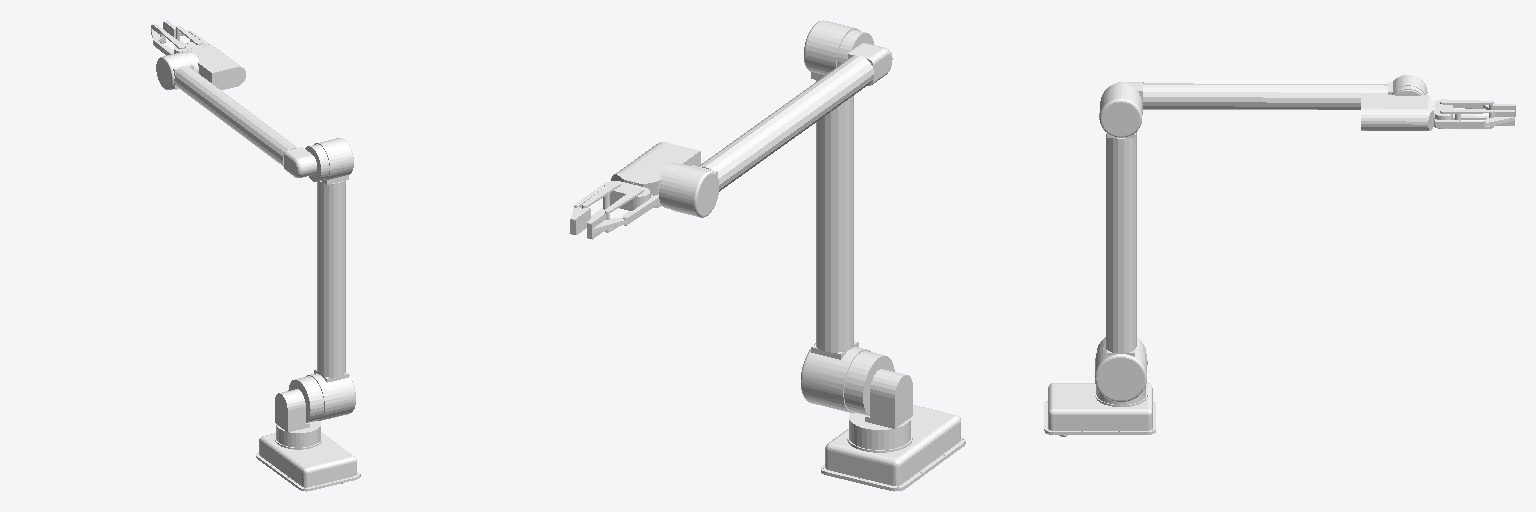
The robot description file, URDF, robot "yj10":
<?xml version="1.0" encoding="utf-8" ?>
<!-- This URDF was automatically created by SolidWorks to URDF Exporter! Originally created by
[author] ([email redacted]) 
     Commit Version: 1.6.0-4-g7f85cfe  Build Version: 1.6.7995.38578
     For more information, please see http://wiki.ros.org/sw_urdf_exporter -->
<robot name="yj10">
    <link name="world" />
    <joint name="base_joint" type="fixed">
        <parent link="world" />
        <child link="base_link" />
        <origin xyz="0.0 0.0 0.5" rpy="0.0 0.0 0.0" />
    </joint>
    <link name="base_link">
        <inertial>
            <origin xyz="0.00013467 -0.04325 0.025845" rpy="0 0 0" />
            <mass value="1.7019" />
            <inertia ixx="0.0071647" ixy="1.7821E-05" ixz="8.0419E-06" iyy="0.0034039"
                iyz="-6.1005E-05" izz="0.0097375" />
        </inertial>
        <visual>
            <origin xyz="0 0 0" rpy="0 0 0" />
            <geometry>
                <mesh filename="package://yj10_description/meshes/base_link.STL" />
            </geometry>
            <material name="">
                <color rgba="1 1 1 1" />
            </material>
        </visual>
        <collision>
            <origin xyz="0 0 0" rpy="0 0 0" />
            <geometry>
                <mesh filename="package://yj10_description/meshes/base_link.STL" />
            </geometry>
        </collision>
    </link>
    <link name="link1">
        <inertial>
            <origin xyz="0.0017435 -1.6818E-05 0.061315" rpy="0 0 0" />
            <mass value="0.87269" />
            <inertia ixx="0.0018566" ixy="3.7517E-07" ixz="-0.00012802" iyy="0.0018955"
                iyz="1.235E-06" izz="0.0010518" />
        </inertial>
        <visual>
            <origin xyz="0 0 0" rpy="0 0 0" />
            <geometry>
                <mesh filename="package://yj10_description/meshes/link1.STL" />
            </geometry>
            <material name="">
                <color rgba="1 1 1 1" />
            </material>
        </visual>
        <collision>
            <origin xyz="0 0 0" rpy="0 0 0" />
            <geometry>
                <mesh filename="package://yj10_description/meshes/link1.STL" />
            </geometry>
        </collision>
    </link>
    <joint name="joint1" type="revolute">
        <origin xyz="0 0 0.056" rpy="0 0 0" />
        <parent link="base_link" />
        <child link="link1" />
        <axis xyz="0 0 -1" />
        <limit lower="-1.5708" upper="1.5708" effort="10000" velocity="0.57" />
    </joint>
    <link name="link2">
        <inertial>
            <origin xyz="0.046603 -0.00044956 0.27133" rpy="0 0 0" />
            <mass value="3.09" />
            <inertia ixx="0.036472" ixy="-1.0215E-06" ixz="-1.8792E-05" iyy="0.036366"
                iyz="1.8127E-07" izz="0.0025346" />
        </inertial>
        <visual>
            <origin xyz="0 0 0" rpy="0 0 0" />
            <geometry>
                <mesh filename="package://yj10_description/meshes/link2.STL" />
            </geometry>
            <material name="">
                <color rgba="1 1 1 1" />
            </material>
        </visual>
        <collision>
            <origin xyz="0 0 0" rpy="0 0 0" />
            <geometry>
                <mesh filename="package://yj10_description/meshes/link2.STL" />
            </geometry>
        </collision>
    </link>
    <joint name="joint2" type="revolute">
        <origin xyz="0.038998 -0.00037619 0.093" rpy="0 0 0" />
        <parent link="link1" />
        <child link="link2" />
        <axis xyz="-0.99995 0.009646 0" />
        <limit lower="-1.5708" upper="1.5708" effort="10000" velocity="0.57" />
    </joint>
    <link name="link3">
        <inertial>
            <origin xyz="-0.028145 0.32599 -6.7599E-09" rpy="0 0 0" />
            <mass value="1.8688" />
            <inertia ixx="0.027421" ixy="-0.00023639" ixz="-4.1986E-10" iyy="0.00089832"
                iyz="2.8529E-11" izz="0.027448" />
        </inertial>
        <visual>
            <origin xyz="0 0 0" rpy="0 0 0" />
            <geometry>
                <mesh filename="package://yj10_description/meshes/link3.STL" />
            </geometry>
            <material name="">
                <color rgba="1 1 1 1" />
            </material>
        </visual>
        <collision>
            <origin xyz="0 0 0" rpy="0 0 0" />
            <geometry>
                <mesh filename="package://yj10_description/meshes/link3.STL" />
            </geometry>
        </collision>
    </link>
    <joint name="joint3" type="revolute">
        <origin xyz="0.0049998 -4.823E-05 0.6" rpy="0 0 0" />
        <parent link="link2" />
        <child link="link3" />
        <axis xyz="0.99995 -0.009646 0" />
        <limit lower="-1.5708" upper="1.5708" effort="10000" velocity="0.57" />
    </joint>
    <link name="link4">
        <inertial>
            <origin xyz="0.042982 -0.024425 2.0748E-09" rpy="0 0 0" />
            <mass value="0.63938" />
            <inertia ixx="0.0010731" ixy="5.6489E-07" ixz="3.7312E-11" iyy="0.00054075"
                iyz="-6.3284E-12" izz="0.0013552" />
        </inertial>
        <visual>
            <origin xyz="0 0 0" rpy="0 0 0" />
            <geometry>
                <mesh filename="package://yj10_description/meshes/link4.STL" />
            </geometry>
            <material name="">
                <color rgba="1 1 1 1" />
            </material>
        </visual>
        <collision>
            <origin xyz="0 0 0" rpy="0 0 0" />
            <geometry>
                <mesh filename="package://yj10_description/meshes/link4.STL" />
            </geometry>
        </collision>
    </link>
    <joint name="joint4" type="revolute">
        <origin xyz="0.014287 0.59989 0" rpy="0 0 0" />
        <parent link="link3" />
        <child link="link4" />
        <axis xyz="-0.99995 0.009646 0" />
        <limit lower="-1.5708" upper="1.5708" effort="10000" velocity="0.57" />
    </joint>
    <link name="link5">
        <inertial>
            <origin xyz="0.0014574 0.058849 0.00040131" rpy="0 0 0" />
            <mass value="0.22539" />
            <inertia ixx="9.0373E-05" ixy="-8.613E-07" ixz="4.3725E-09" iyy="7.106E-05"
                iyz="4.5328E-07" izz="0.00014085" />
        </inertial>
        <visual>
            <origin xyz="0 0 0" rpy="0 0 0" />
            <geometry>
                <mesh filename="package://yj10_description/meshes/link5.STL" />
            </geometry>
            <material name="">
                <color rgba="1 1 1 1" />
            </material>
        </visual>
        <collision>
            <origin xyz="0 0 0" rpy="0 0 0" />
            <geometry>
                <mesh filename="package://yj10_description/meshes/link5.STL" />
            </geometry>
        </collision>
    </link>
    <joint name="joint5" type="revolute">
        <origin xyz="0.041038 0.055577 0" rpy="0 0 0" />
        <parent link="link4" />
        <child link="link5" />
        <axis xyz="-0.009646 -0.99995 0" />
        <limit lower="-1.5708" upper="1.5708" effort="10000" velocity="0.57" />
    </joint>

    <!-- For Gazebo -->

    <transmission name="trans_joint1">
        <type>transmission_interface/SimpleTransmission</type>
        <joint name="joint1">
            <hardwareInterface>hardware_interface/PositionJointInterface</hardwareInterface>
        </joint>
        <actuator name="joint1_motor">
            <hardwareInterface>hardware_interface/PositionJointInterface</hardwareInterface>
            <mechanicalReduction>1</mechanicalReduction>
        </actuator>
    </transmission>
    <transmission name="trans_joint2">
        <type>transmission_interface/SimpleTransmission</type>
        <joint name="joint2">
            <hardwareInterface>hardware_interface/PositionJointInterface</hardwareInterface>
        </joint>
        <actuator name="joint2_motor">
            <hardwareInterface>hardware_interface/PositionJointInterface</hardwareInterface>
            <mechanicalReduction>1</mechanicalReduction>
        </actuator>
    </transmission>
    <transmission name="trans_joint3">
        <type>transmission_interface/SimpleTransmission</type>
        <joint name="joint3">
            <hardwareInterface>hardware_interface/PositionJointInterface</hardwareInterface>
        </joint>
        <actuator name="joint3_motor">
            <hardwareInterface>hardware_interface/PositionJointInterface</hardwareInterface>
            <mechanicalReduction>1</mechanicalReduction>
        </actuator>
    </transmission>
    <transmission name="trans_joint4">
        <type>transmission_interface/SimpleTransmission</type>
        <joint name="joint4">
            <hardwareInterface>hardware_interface/PositionJointInterface</hardwareInterface>
        </joint>
        <actuator name="joint4_motor">
            <hardwareInterface>hardware_interface/PositionJointInterface</hardwareInterface>
            <mechanicalReduction>1</mechanicalReduction>
        </actuator>
    </transmission>
    <transmission name="trans_joint5">
        <type>transmission_interface/SimpleTransmission</type>
        <joint name="joint5">
            <hardwareInterface>hardware_interface/PositionJointInterface</hardwareInterface>
        </joint>
        <actuator name="joint5_motor">
            <hardwareInterface>hardware_interface/PositionJointInterface</hardwareInterface>
            <mechanicalReduction>1</mechanicalReduction>
        </actuator>
    </transmission>
    <gazebo>
        <plugin name="gazebo_ros_control" filename="libgazebo_ros_control.so">
            <robotNamespace>/</robotNamespace>
        </plugin>
    </gazebo>
</robot>

--- Render facts (derived) ---
3 views of the same robot in one strip: view 1: azimuth 30°, elevation 25°; view 2: azimuth 150°, elevation 25°; view 3: azimuth 270°, elevation 25° (orthographic).
Model yj10 with 7 links and 6 joints (5 revolute, 1 fixed), rooted at world, posed all joints at 0.
Links seen in each view (by area): view 1: link2, link3, base_link, link1, link4, link5; view 2: link2, link3, base_link, link1, link5, link4; view 3: link2, link3, base_link, link4, link5.
Boxes of the visible links, bbox=[...] form: link2: bbox=[306, 138, 355, 420]; link3: bbox=[156, 51, 323, 181]; base_link: bbox=[256, 432, 360, 491]; link1: bbox=[275, 376, 323, 447]; link4: bbox=[182, 44, 245, 89]; link5: bbox=[151, 20, 208, 55]; link2: bbox=[801, 20, 870, 413]; link3: bbox=[659, 32, 892, 217]; base_link: bbox=[821, 405, 965, 491]; link1: bbox=[844, 351, 912, 449]; link5: bbox=[570, 181, 658, 239]; link4: bbox=[611, 142, 700, 207]; link2: bbox=[1095, 85, 1147, 401]; link3: bbox=[1101, 75, 1427, 109]; base_link: bbox=[1044, 383, 1155, 436]; link4: bbox=[1361, 90, 1433, 130]; link5: bbox=[1434, 99, 1515, 128].
Bounding box of the posed robot: 0.2341 × 0.9852 × 0.8152 m (x, y, z).
Meshes: 6 distinct files referenced, 6 mesh visuals loaded (6 binary STL).
